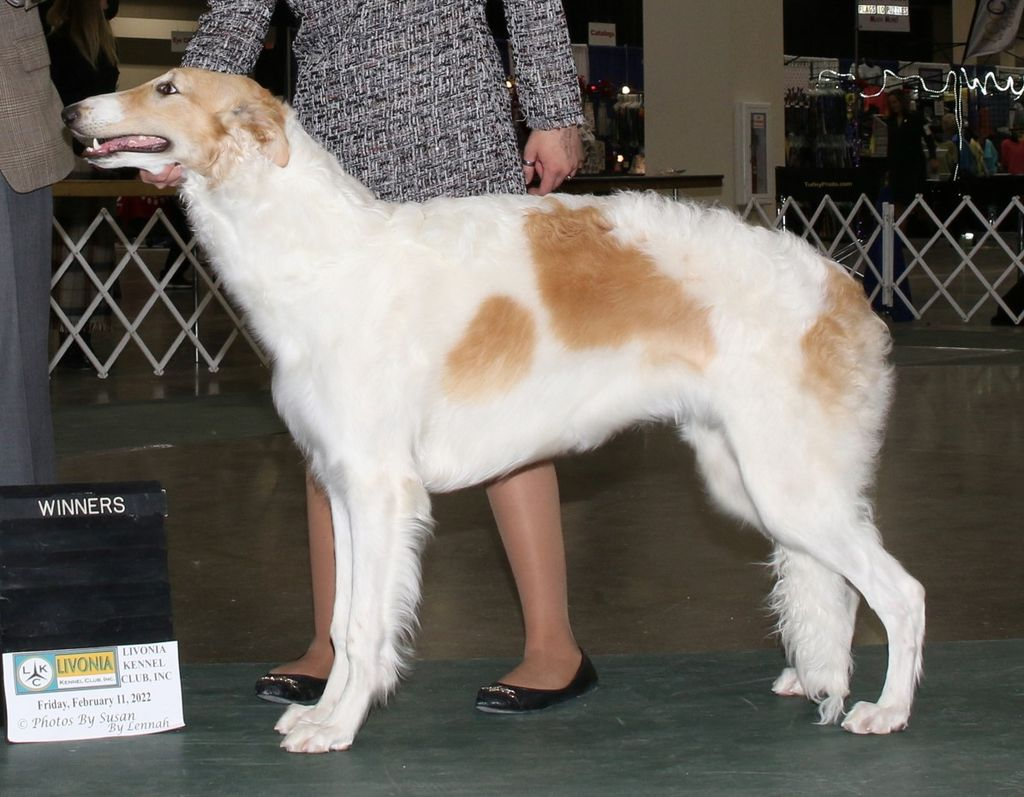borzoi: (61, 62, 988, 767)
